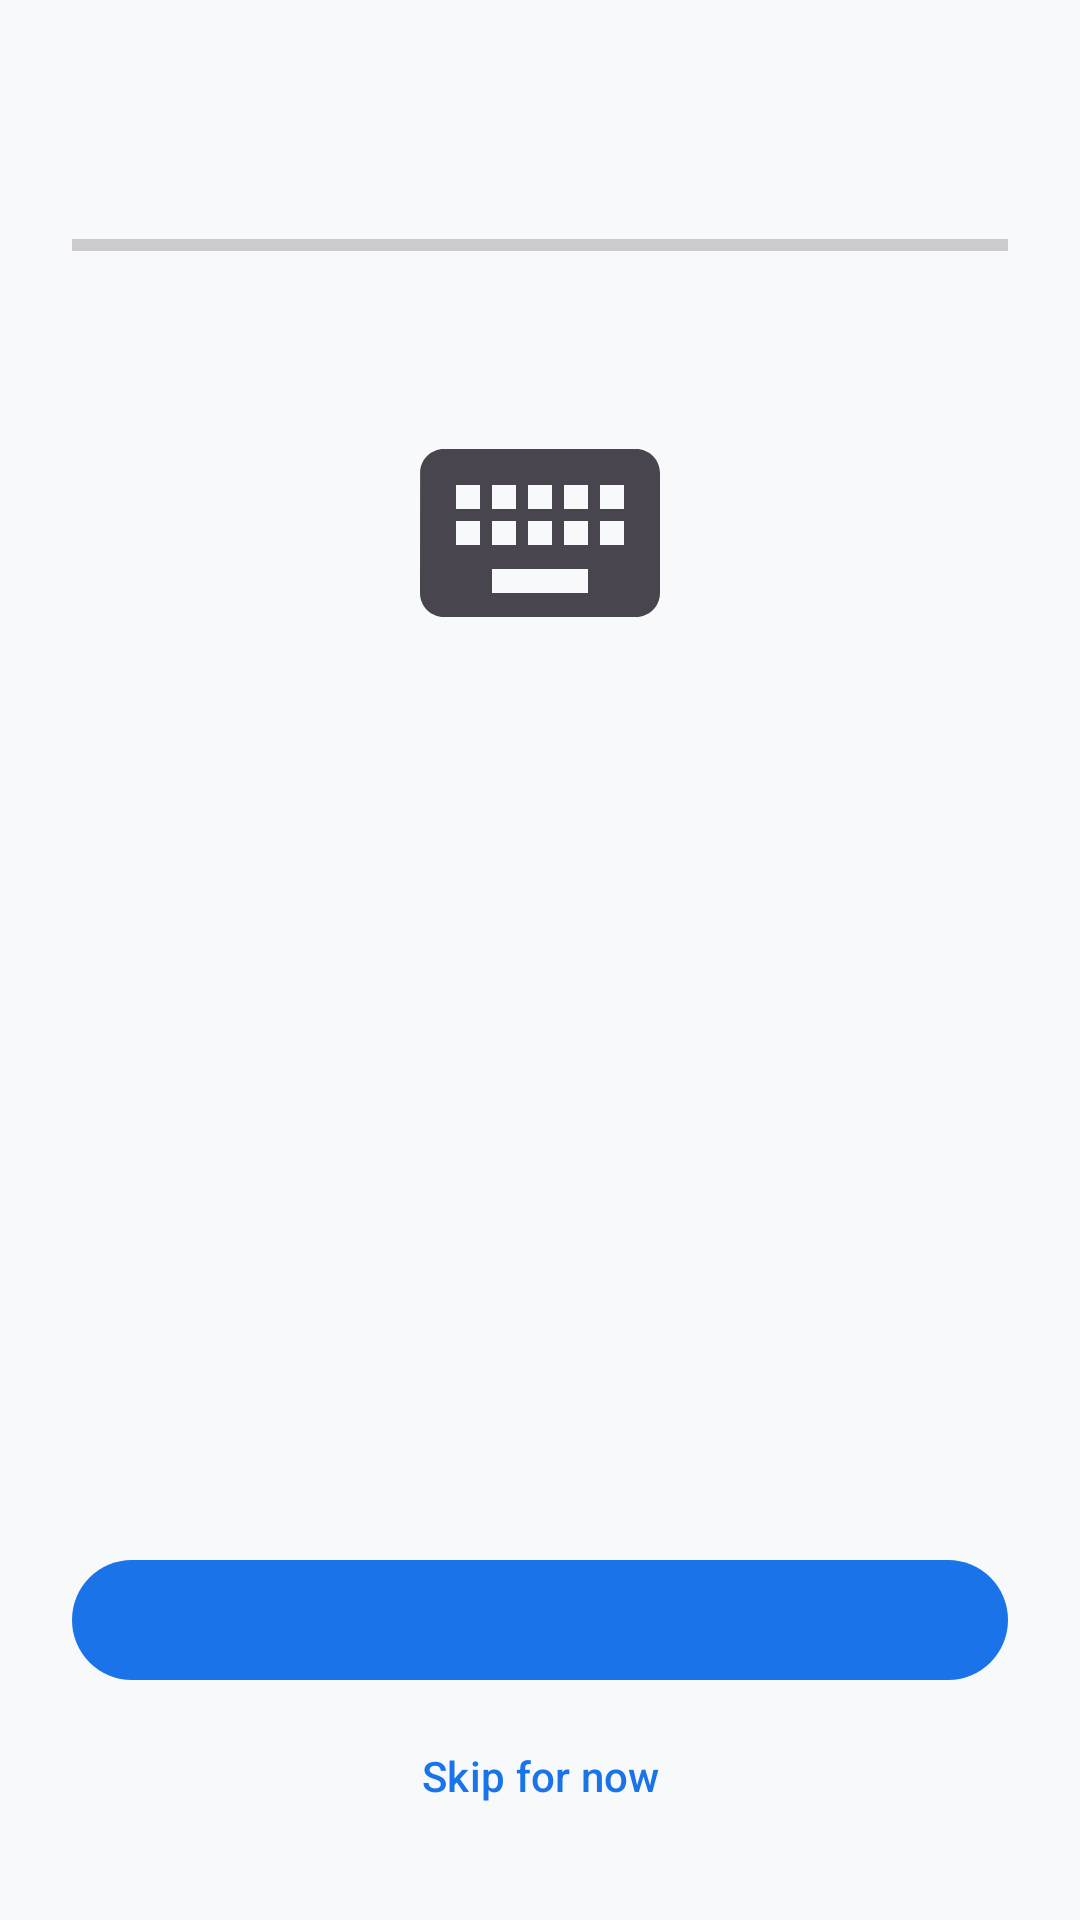

Icon click points for this 1080 × 1920 phone screenshot, format (x=x, y=y):
keyboard: (x=540, y=533)
